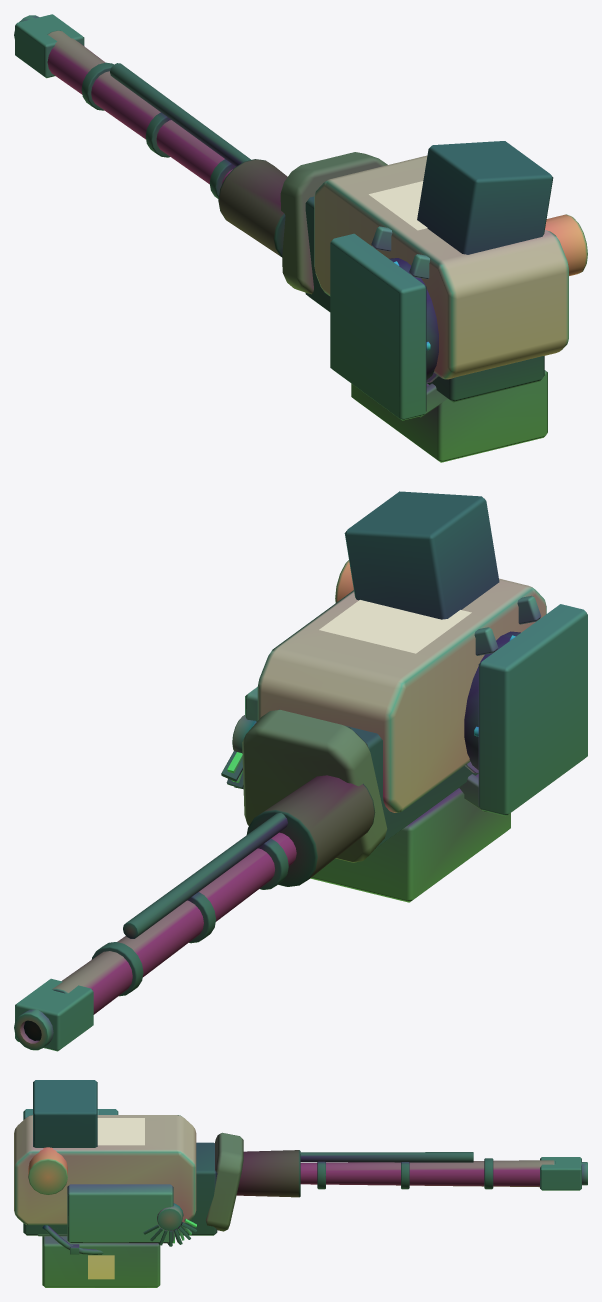
The model's file is arm_ac30.glb.
3 views of the same model, one above another, from view 1: azimuth 30°, elevation 25°; view 2: azimuth 150°, elevation 25°; view 3: azimuth 270°, elevation 25° (orthographic). The views are drawn at different scales.
Parts seen in each view (by area): view 1: Body__armor, Body__gunmetal, Body__dark, Body__armor_sub, Body__armor_oxide, Body__rubber, Body__copper, Body__decal; view 2: Body__gunmetal, Body__armor, Body__dark, Body__armor_sub, Body__armor_oxide, Body__rubber, Body__decal; view 3: Body__armor, Body__armor_sub, Body__dark, Body__gunmetal, Body__rubber, Body__armor_oxide, Body__decal, Body__copper.
Part boxes in pixels (bbox=[...]): Body__armor: bbox=[314, 155, 568, 379]; Body__gunmetal: bbox=[14, 14, 426, 420]; Body__dark: bbox=[81, 62, 553, 402]; Body__armor_sub: bbox=[351, 226, 547, 462]; Body__armor_oxide: bbox=[280, 152, 387, 294]; Body__rubber: bbox=[218, 159, 287, 257]; Body__copper: bbox=[545, 214, 587, 275]; Body__decal: bbox=[369, 181, 427, 230]; Body__gunmetal: bbox=[14, 604, 587, 1051]; Body__armor: bbox=[257, 578, 546, 812]; Body__dark: bbox=[91, 491, 520, 996]; Body__armor_sub: bbox=[245, 595, 540, 902]; Body__armor_oxide: bbox=[242, 710, 387, 862]; Body__rubber: bbox=[246, 775, 375, 886]; Body__decal: bbox=[319, 600, 471, 653]; Body__armor: bbox=[14, 1115, 196, 1225]; Body__armor_sub: bbox=[37, 1110, 173, 1287]; Body__dark: bbox=[23, 1080, 493, 1246]; Body__gunmetal: bbox=[23, 1109, 587, 1254]; Body__rubber: bbox=[236, 1150, 300, 1197]; Body__armor_oxide: bbox=[206, 1132, 243, 1231]; Body__decal: bbox=[88, 1118, 144, 1279]; Body__copper: bbox=[28, 1147, 67, 1194].
Bounding box in the file's own units: 0.7715 × 1.07 × 3.02.
